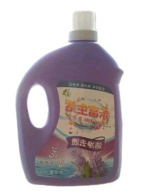ImgView: (1, 1, 143, 192)
